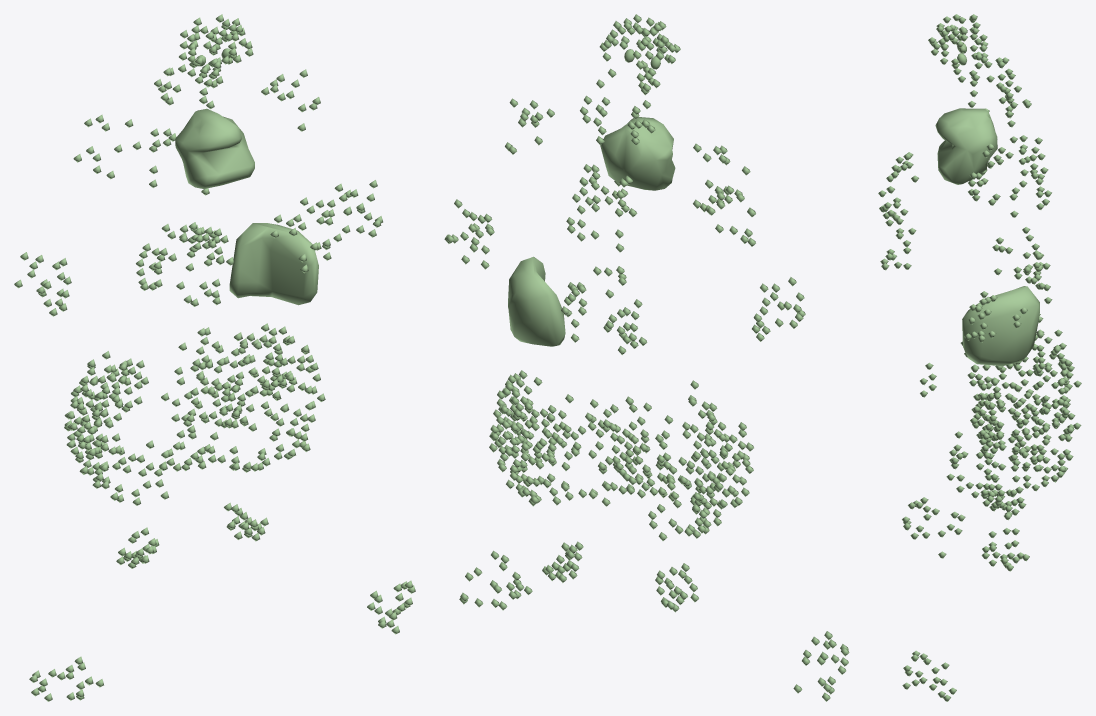
The model's file is pediatric_neonate_male.lymphatic.LOD2.glb.
3 views of the same model, side by side, from view 1: azimuth 30°, elevation 25°; view 2: azimuth 150°, elevation 25°; view 3: azimuth 270°, elevation 25° (orthographic). The views are drawn at different scales.
Visible parts, largest first — view 1: PEDIATRIC.NEONATE.MALE.LYMPHATIC.LYMPHATIC_NODES_TRUNK, PEDIATRIC.NEONATE.MALE.LYMPHATIC.SPLEEN, PEDIATRIC.NEONATE.MALE.LYMPHATIC.THYMUS, PEDIATRIC.NEONATE.MALE.LYMPHATIC.LYMPHATIC_NODES_ET, PEDIATRIC.NEONATE.MALE.LYMPHATIC.LYMPHATIC_NODES_THORACIC, PEDIATRIC.NEONATE.MALE.LYMPHATIC.LYMPHATIC_NODES_ARMS, PEDIATRIC.NEONATE.MALE.LYMPHATIC.LYMPHATIC_NODES_LEGS, PEDIATRIC.NEONATE.MALE.LYMPHATIC.LYMPHATIC_NODES_HEAD; view 2: PEDIATRIC.NEONATE.MALE.LYMPHATIC.LYMPHATIC_NODES_TRUNK, PEDIATRIC.NEONATE.MALE.LYMPHATIC.THYMUS, PEDIATRIC.NEONATE.MALE.LYMPHATIC.SPLEEN, PEDIATRIC.NEONATE.MALE.LYMPHATIC.LYMPHATIC_NODES_THORACIC, PEDIATRIC.NEONATE.MALE.LYMPHATIC.LYMPHATIC_NODES_ET, PEDIATRIC.NEONATE.MALE.LYMPHATIC.LYMPHATIC_NODES_LEGS, PEDIATRIC.NEONATE.MALE.LYMPHATIC.LYMPHATIC_NODES_ARMS, PEDIATRIC.NEONATE.MALE.LYMPHATIC.LYMPHATIC_NODES_HEAD; view 3: PEDIATRIC.NEONATE.MALE.LYMPHATIC.LYMPHATIC_NODES_TRUNK, PEDIATRIC.NEONATE.MALE.LYMPHATIC.SPLEEN, PEDIATRIC.NEONATE.MALE.LYMPHATIC.THYMUS, PEDIATRIC.NEONATE.MALE.LYMPHATIC.LYMPHATIC_NODES_THORACIC, PEDIATRIC.NEONATE.MALE.LYMPHATIC.LYMPHATIC_NODES_ET, PEDIATRIC.NEONATE.MALE.LYMPHATIC.LYMPHATIC_NODES_LEGS, PEDIATRIC.NEONATE.MALE.LYMPHATIC.LYMPHATIC_NODES_ARMS, PEDIATRIC.NEONATE.MALE.LYMPHATIC.LYMPHATIC_NODES_HEAD.
Part boxes in pixels (box(x1,y1,x2,y2)): PEDIATRIC.NEONATE.MALE.LYMPHATIC.LYMPHATIC_NODES_TRUNK: box(64, 69, 333, 568); PEDIATRIC.NEONATE.MALE.LYMPHATIC.SPLEEN: box(229, 223, 318, 305); PEDIATRIC.NEONATE.MALE.LYMPHATIC.THYMUS: box(175, 108, 254, 188); PEDIATRIC.NEONATE.MALE.LYMPHATIC.LYMPHATIC_NODES_ET: box(178, 14, 253, 88); PEDIATRIC.NEONATE.MALE.LYMPHATIC.LYMPHATIC_NODES_THORACIC: box(136, 128, 228, 306); PEDIATRIC.NEONATE.MALE.LYMPHATIC.LYMPHATIC_NODES_ARMS: box(14, 180, 382, 316); PEDIATRIC.NEONATE.MALE.LYMPHATIC.LYMPHATIC_NODES_LEGS: box(29, 580, 415, 701); PEDIATRIC.NEONATE.MALE.LYMPHATIC.LYMPHATIC_NODES_HEAD: box(154, 51, 223, 109); PEDIATRIC.NEONATE.MALE.LYMPHATIC.LYMPHATIC_NODES_TRUNK: box(489, 98, 755, 612); PEDIATRIC.NEONATE.MALE.LYMPHATIC.THYMUS: box(600, 117, 675, 190); PEDIATRIC.NEONATE.MALE.LYMPHATIC.SPLEEN: box(508, 256, 565, 346); PEDIATRIC.NEONATE.MALE.LYMPHATIC.LYMPHATIC_NODES_THORACIC: box(561, 171, 647, 354); PEDIATRIC.NEONATE.MALE.LYMPHATIC.LYMPHATIC_NODES_ET: box(599, 14, 680, 95); PEDIATRIC.NEONATE.MALE.LYMPHATIC.LYMPHATIC_NODES_LEGS: box(459, 550, 849, 701); PEDIATRIC.NEONATE.MALE.LYMPHATIC.LYMPHATIC_NODES_ARMS: box(444, 199, 805, 341); PEDIATRIC.NEONATE.MALE.LYMPHATIC.LYMPHATIC_NODES_HEAD: box(580, 79, 655, 145); PEDIATRIC.NEONATE.MALE.LYMPHATIC.LYMPHATIC_NODES_TRUNK: box(878, 57, 1081, 571); PEDIATRIC.NEONATE.MALE.LYMPHATIC.SPLEEN: box(962, 286, 1039, 366); PEDIATRIC.NEONATE.MALE.LYMPHATIC.THYMUS: box(935, 108, 997, 184); PEDIATRIC.NEONATE.MALE.LYMPHATIC.LYMPHATIC_NODES_THORACIC: box(988, 135, 1052, 304); PEDIATRIC.NEONATE.MALE.LYMPHATIC.LYMPHATIC_NODES_ET: box(928, 14, 988, 82); PEDIATRIC.NEONATE.MALE.LYMPHATIC.LYMPHATIC_NODES_LEGS: box(902, 497, 965, 701); PEDIATRIC.NEONATE.MALE.LYMPHATIC.LYMPHATIC_NODES_ARMS: box(964, 156, 1030, 342); PEDIATRIC.NEONATE.MALE.LYMPHATIC.LYMPHATIC_NODES_HEAD: box(968, 61, 1021, 127).
Bounding box in the file's own units: 0.1829 × 0.2965 × 0.0902.
